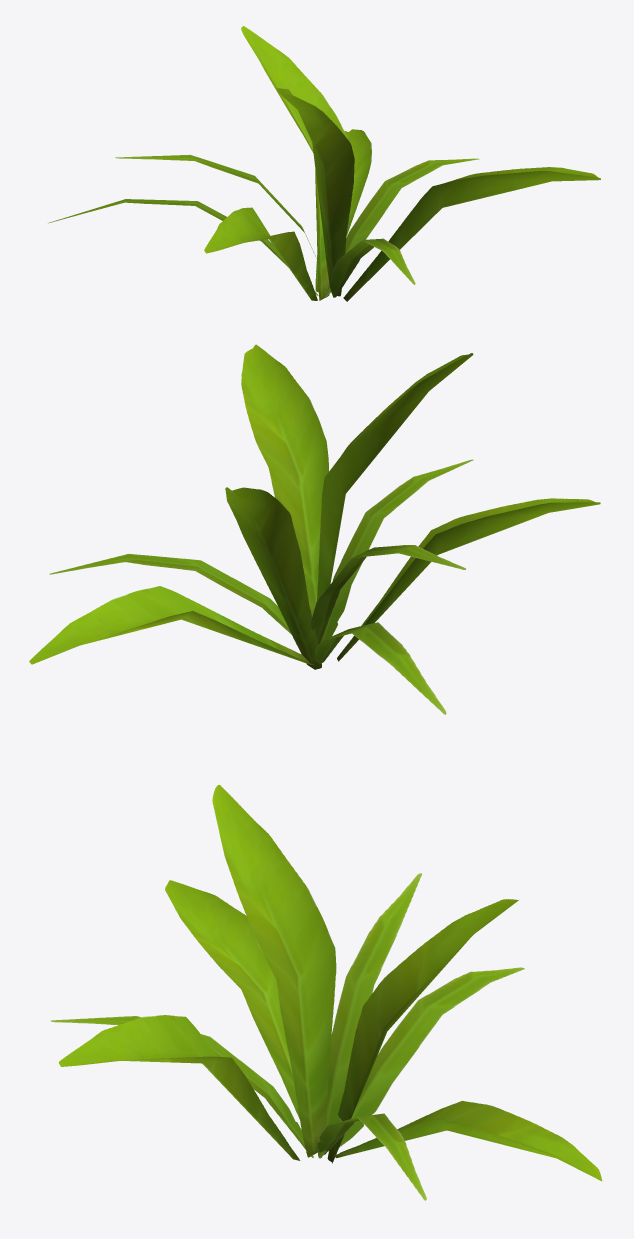
The model's file is SM_Vegetation_06.fbx.
3 renders of one model, top to bottom at view 1: azimuth 30°, elevation 25°; view 2: azimuth 150°, elevation 25°; view 3: azimuth 270°, elevation 25°, orthographic. The views are drawn at different scales.
Visible parts, largest first — view 1: SM_Vegetation_06_LOD0; view 2: SM_Vegetation_06_LOD0; view 3: SM_Vegetation_06_LOD0.
Part boxes in pixels (x1,y1,x2,y2): SM_Vegetation_06_LOD0: (48,26,600,301); SM_Vegetation_06_LOD0: (29,344,600,714); SM_Vegetation_06_LOD0: (50,784,602,1200).
Size of what is drawn, in the model's own units: 1.3 by 0.7956 by 1.27.
